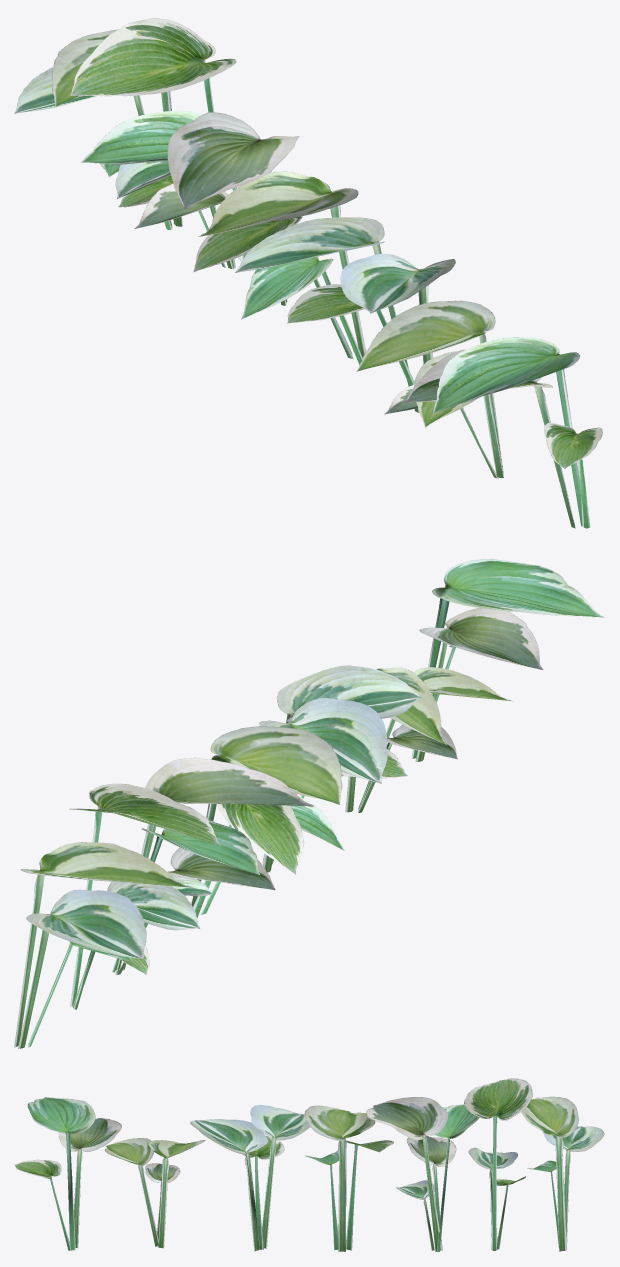
File: plant_small_wg_00_line_06.fbx
The picture shows the model from 3 angles, top to bottom: view 1: azimuth 30°, elevation 25°; view 2: azimuth 150°, elevation 25°; view 3: azimuth 270°, elevation 25°; orthographic projection. The views are drawn at different scales.
Parts seen in each view (by area): view 1: plant_small_wg_00_line_06; view 2: plant_small_wg_00_line_06; view 3: plant_small_wg_00_line_06.
Boxes of the visible parts, x1,y1,x2,y2 form: plant_small_wg_00_line_06: (14, 18, 602, 528); plant_small_wg_00_line_06: (14, 558, 603, 1048); plant_small_wg_00_line_06: (14, 1078, 604, 1251).
Bounding box in the file's own units: 35.75 × 44.95 × 167.
Materials: 1 (1 with a texture image).
